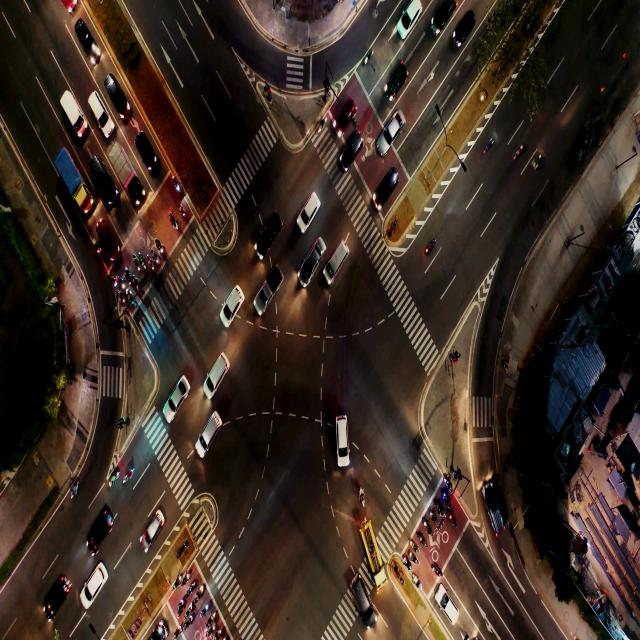car: (381, 117, 402, 147), (456, 14, 469, 42), (376, 175, 395, 192), (398, 12, 414, 32), (304, 198, 319, 218), (265, 222, 277, 242), (384, 73, 400, 87), (346, 138, 360, 154), (439, 0, 449, 21), (344, 102, 353, 122), (231, 290, 240, 310), (210, 359, 219, 379), (208, 414, 218, 432), (336, 246, 345, 264), (173, 385, 181, 405), (312, 246, 319, 263)
motorcycle: (425, 239, 437, 260), (513, 142, 524, 163), (482, 138, 493, 154), (319, 115, 326, 134), (535, 151, 542, 166), (364, 52, 371, 66)
